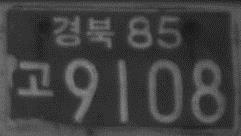0: (147, 58, 184, 123)
1: (115, 56, 133, 123)
5: (155, 14, 183, 50)
8: (190, 57, 227, 124), (126, 16, 153, 49)
9: (62, 56, 100, 123)
경북_O: (51, 13, 115, 49)
고: (14, 59, 55, 97)
